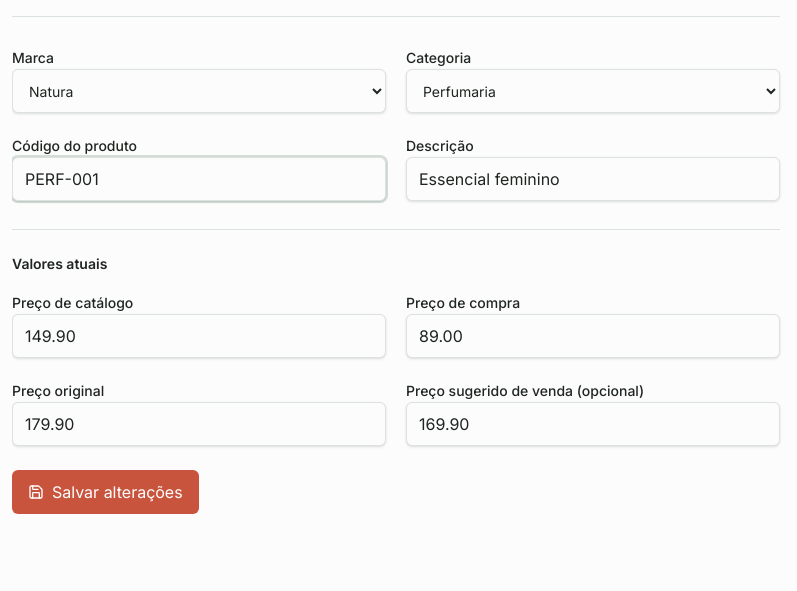
Test: UpdateProductForm › shows a uniqueness conflict without clearing the form
Click the button "Salvar alterações".
click(105, 492)  # box [12,470,199,514]
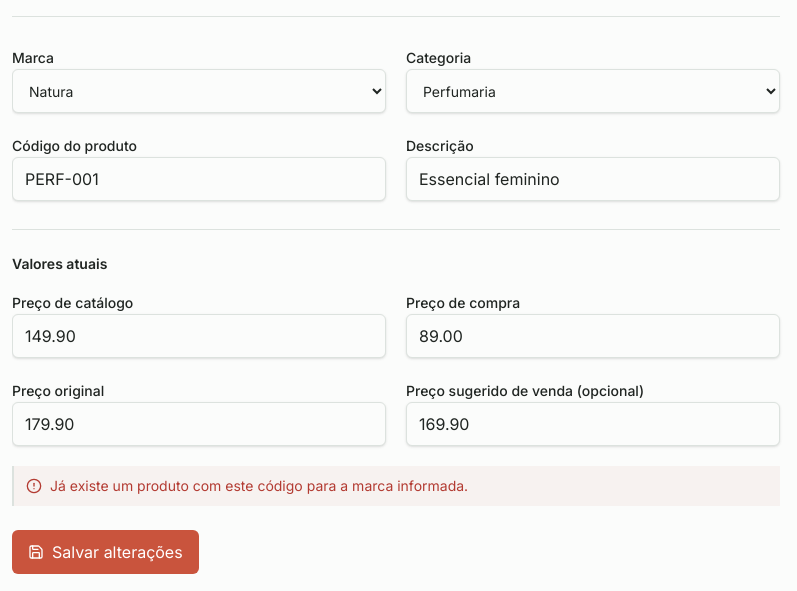
Expected: the field labelled "Código do produto" holds "PERF-001", [12,157,386,201]
Now the message reads "Já existe um produto com este código para a marca informada.", box [50,477,468,494]
